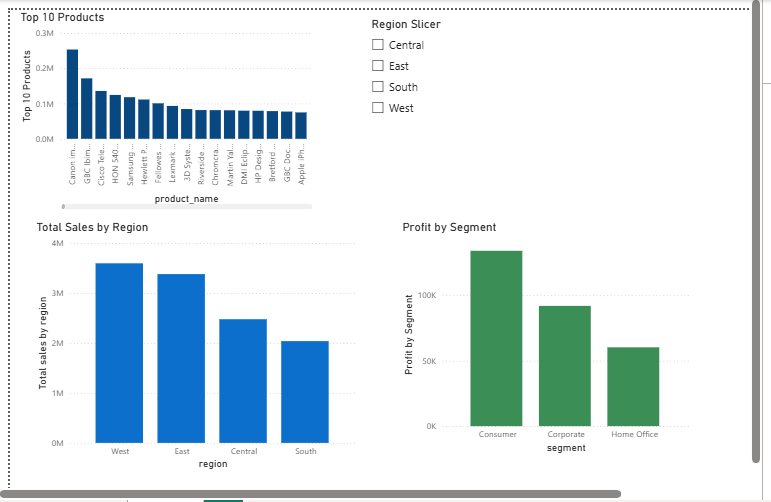

The page's visual inventory and layout, read from the dashboard file:
{"tool":"powerbi","page":{"name":"Page 1","canvas":[1280,720],"ordinal":0},"visuals":[{"type":"clusteredColumnChart","title":"Total Sales by Region","fields":{"Category":["cleaned_superstore.region"],"Y":["Sum(cleaned_superstore.total_sales)"]},"box":[32.9,300,465.7,361.4],"z":1000},{"type":"clusteredColumnChart","title":"Top 10 Products ","fields":{"Category":["cleaned_superstore.product_name"],"Y":["Sum(cleaned_superstore.total_sales)"]},"box":[10,0,427.1,290],"z":2000},{"type":"clusteredColumnChart","title":"Profit by Segment","fields":{"Category":["cleaned_superstore.segment"],"Y":["Sum(cleaned_superstore.profit)"]},"box":[555,300,420,337.5],"z":3000},{"type":"listSlicer","title":"Region Slicer","fields":{"Values":["cleaned_superstore.region"]},"box":[511.4,10,401.4,290],"z":3001}]}

Visuals, with their boxes on the page's 1280x720 design canvas (x1, y1, x2, y2). These are canvas units, not pixel positions in the 771x502 screenshot, which may show the page scaled, cropped or inside an application window:
"Total Sales by Region" clusteredColumnChart: detection(33, 300, 499, 661)
"Top 10 Products " clusteredColumnChart: detection(10, 0, 437, 290)
"Profit by Segment" clusteredColumnChart: detection(555, 300, 975, 638)
"Region Slicer" listSlicer: detection(511, 10, 913, 300)
